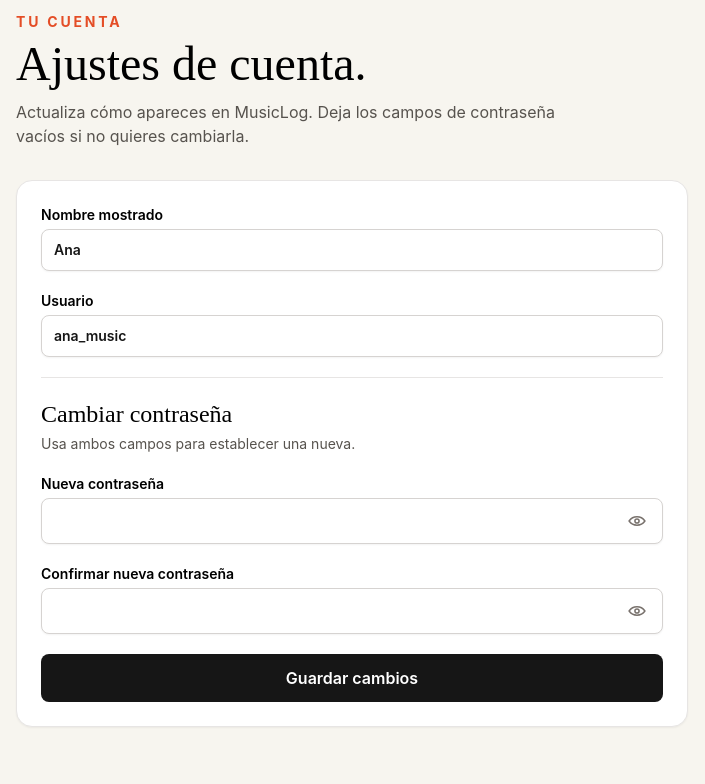
Test: AccountSettingsPage › shows a username conflict returned by the API
Replace the text in the field labelled "Usuario" with "taken_name" at (352, 336), box [41,315,663,357]
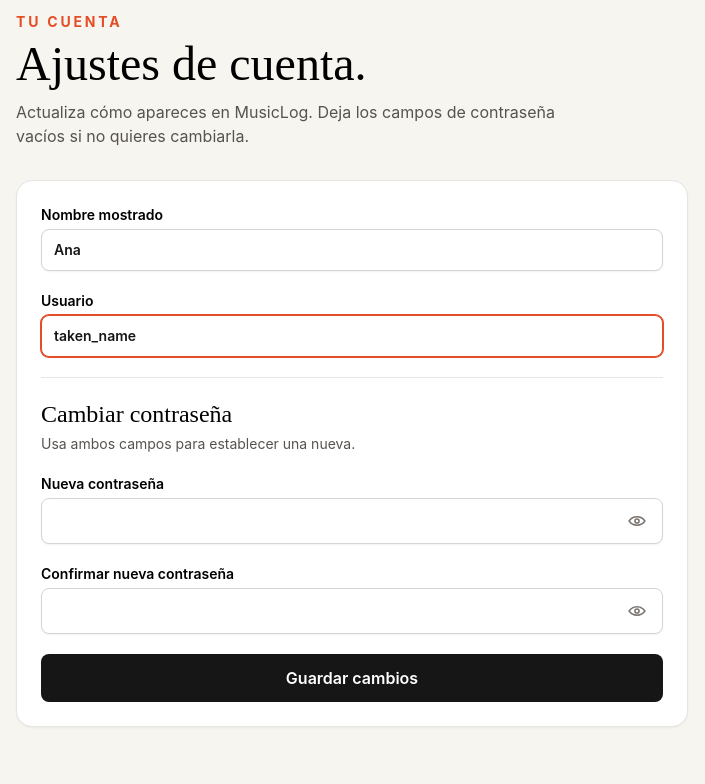
Click the button "Guardar cambios".
click(352, 678)  # box [41,654,663,702]
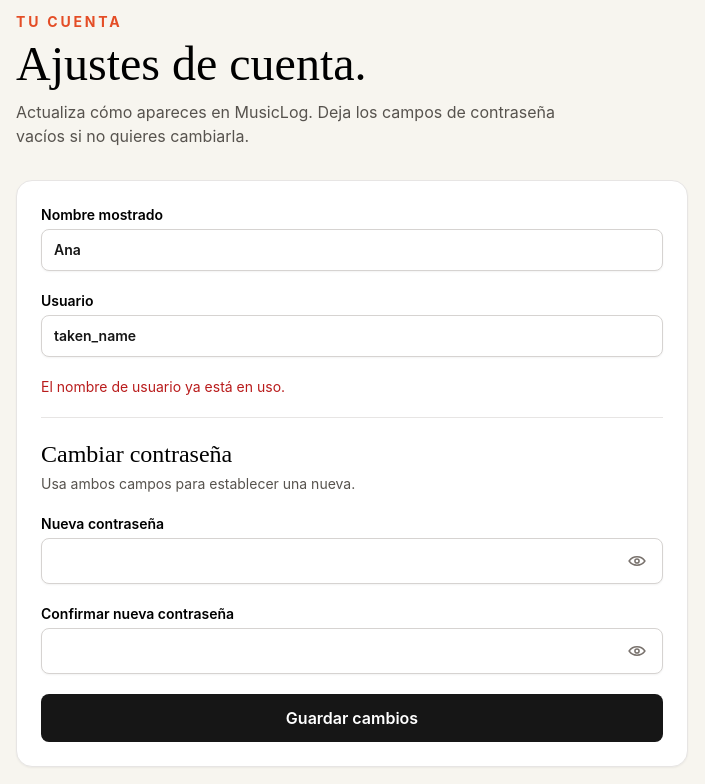
Expected: the text "El nombre de usuario ya está en uso." is shown, [41,378,285,395]
